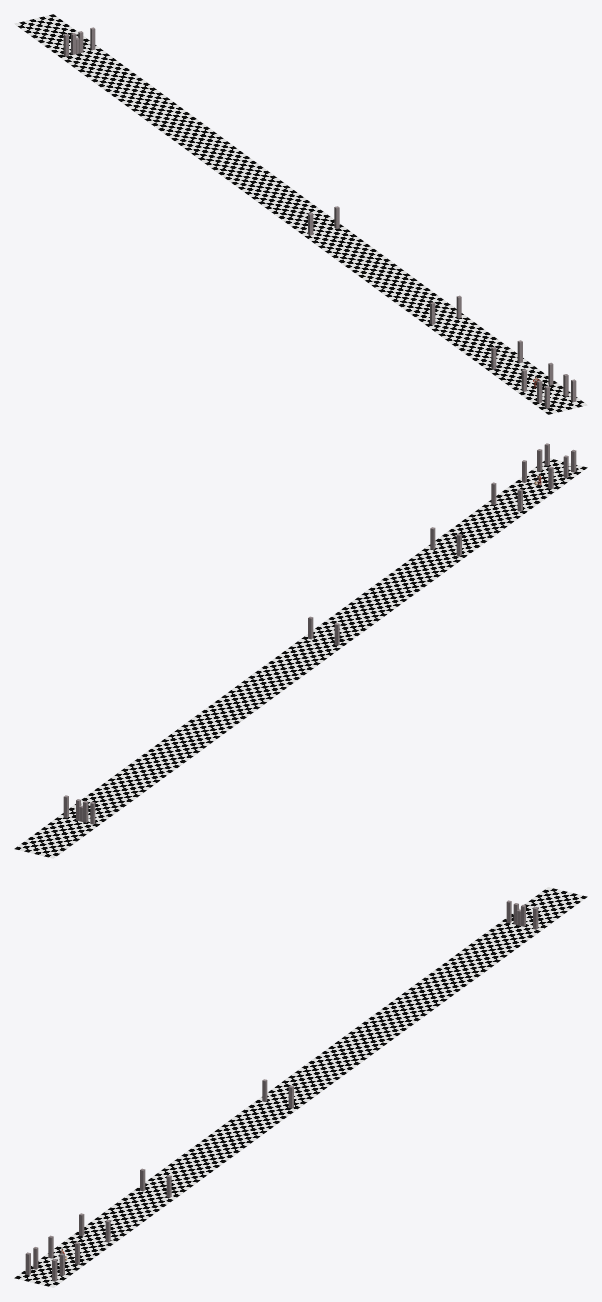
Rendered from dof-reference-poe.gltf.
3 views of the same model, one above another, from view 1: azimuth 30°, elevation 25°; view 2: azimuth 150°, elevation 25°; view 3: azimuth 330°, elevation 25° (orthographic).
Visible parts, largest first — view 1: Floor; view 2: Floor; view 3: Floor.
Part boxes in pixels (x1=…): Floor: x1=14, y1=14, x2=587, y2=414; Floor: x1=14, y1=458, x2=587, y2=858; Floor: x1=14, y1=887, x2=587, y2=1287.
Bounding box in the file's own units: 6 × 3.93 × 140.
Materials: 18 (1 with a texture image).
